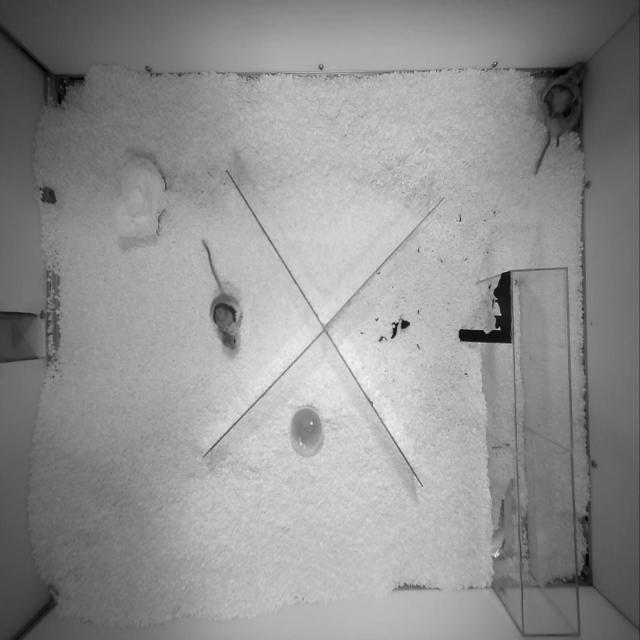adult_front: (202, 239, 243, 350)
